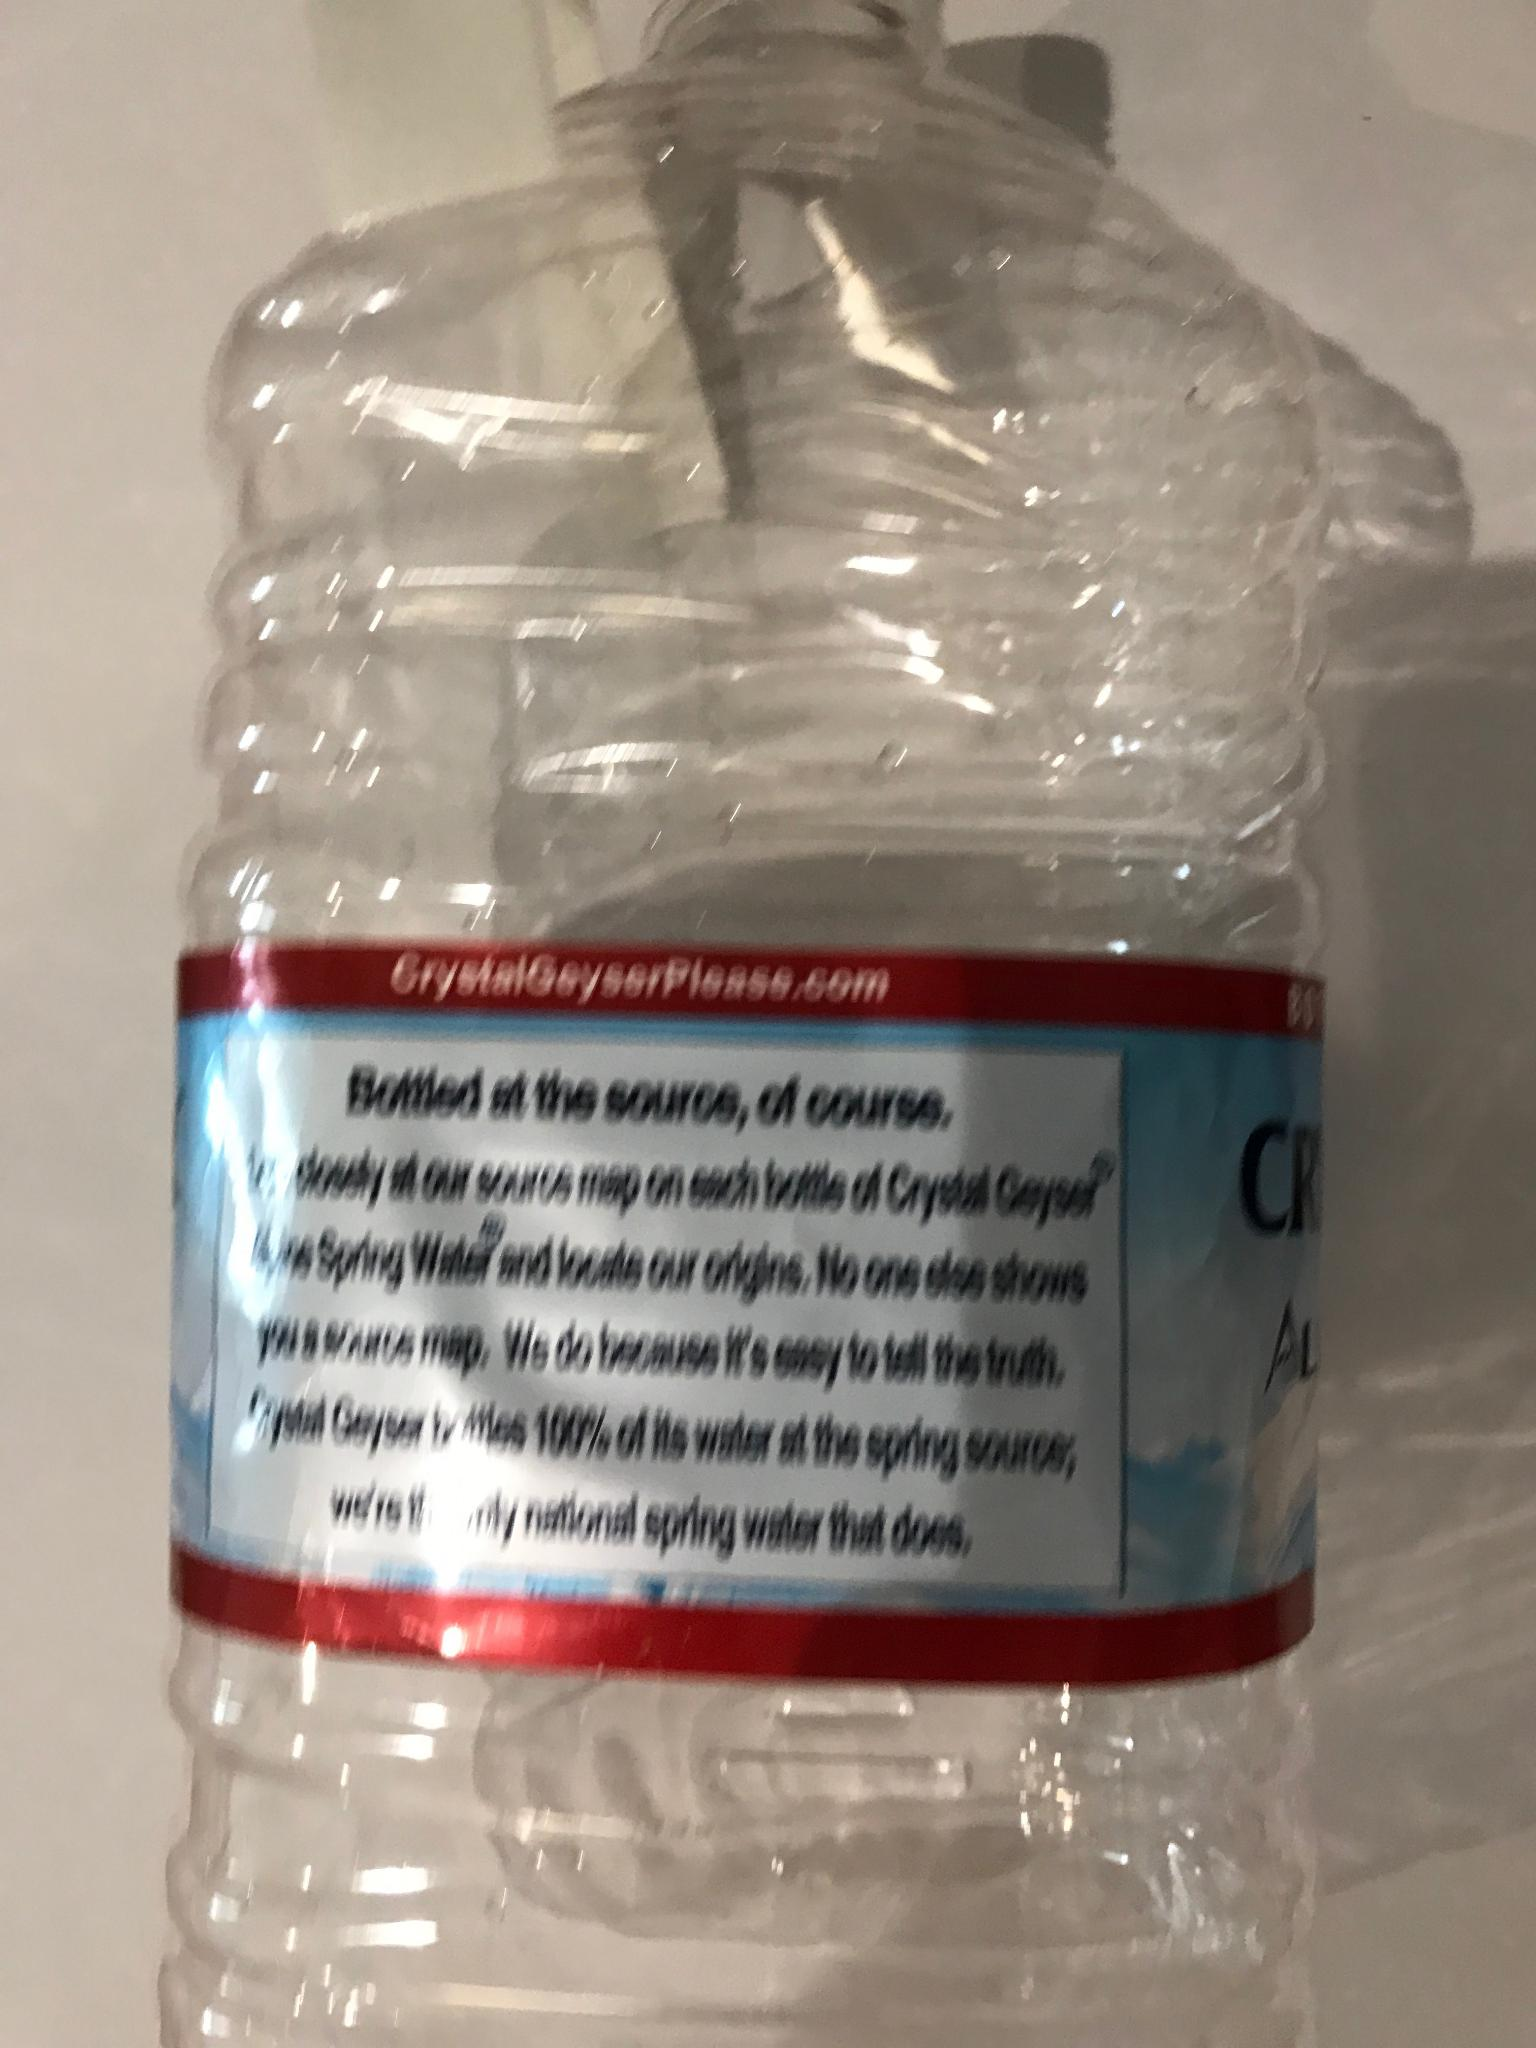Plastic: (179, 11, 1349, 2048)
